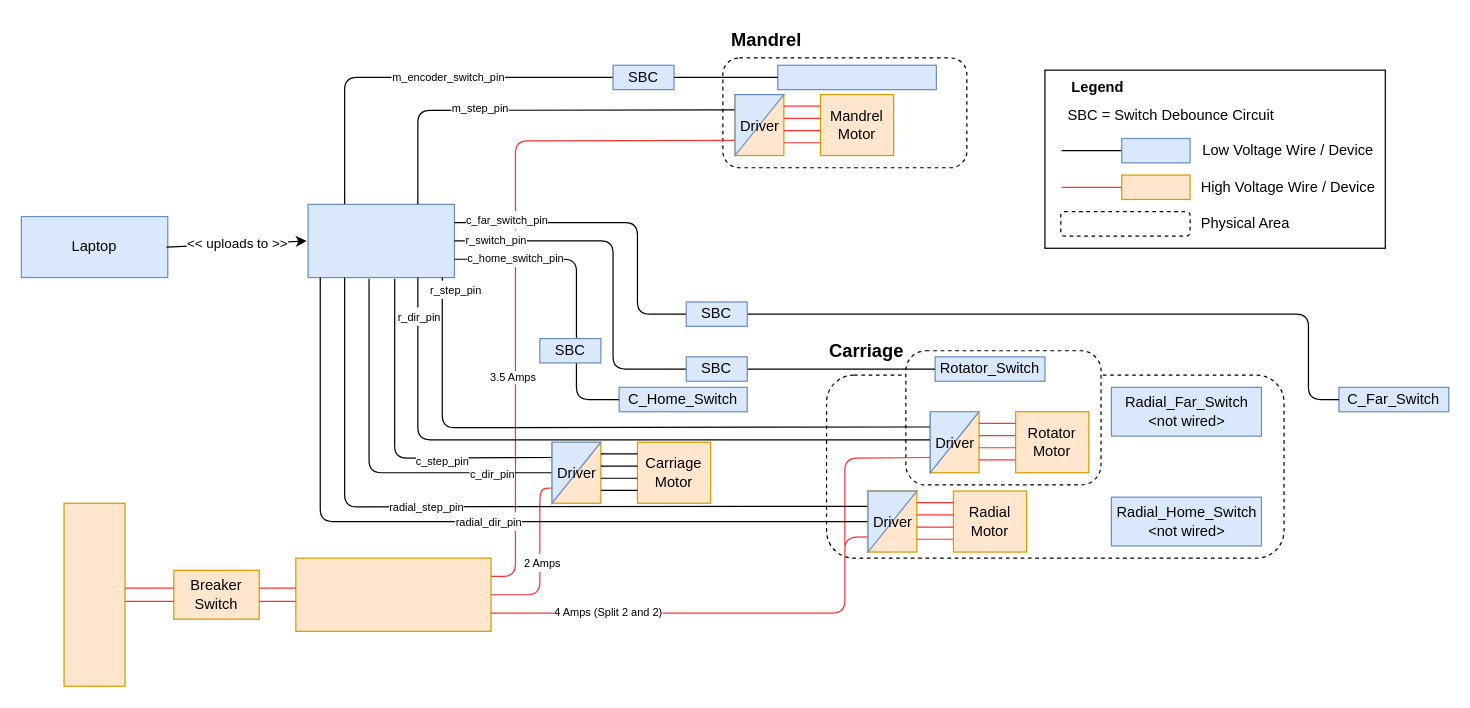
Some shapes in this 1470 by 708 pixel diagram are drawn without their labels. Here are the shapes that lost their labels. From the top down, the box of each, then its label:
(777, 64, 936, 90): M_Encoder_Switch
(307, 203, 454, 278): Microcontroller
(63, 502, 125, 686): AC Wall Power
(295, 557, 491, 631): Power Supply (3 HV Ports, 12V, 360W)
